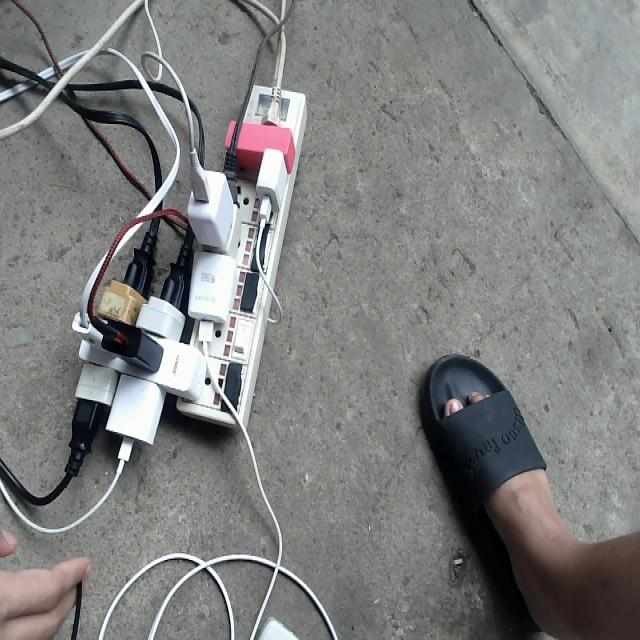-: (70, 76, 303, 447)
